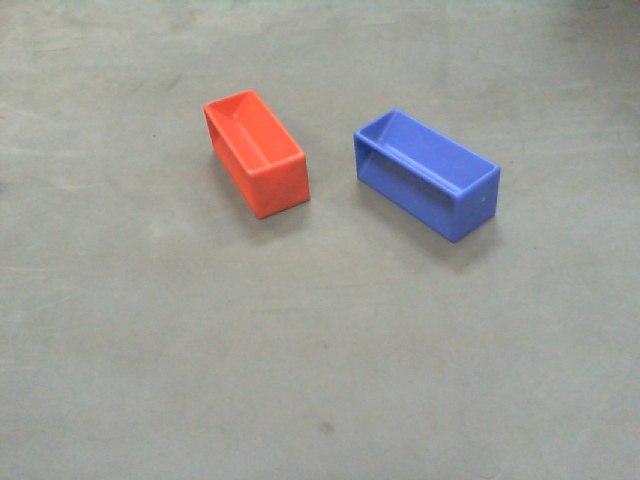BlueSample: (351, 107, 502, 249)
RedSample: (201, 88, 311, 220)
